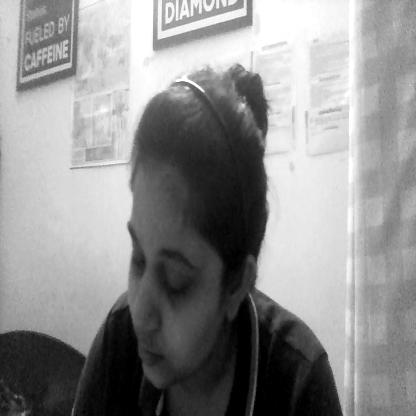Distracted: (127, 110, 239, 388)
